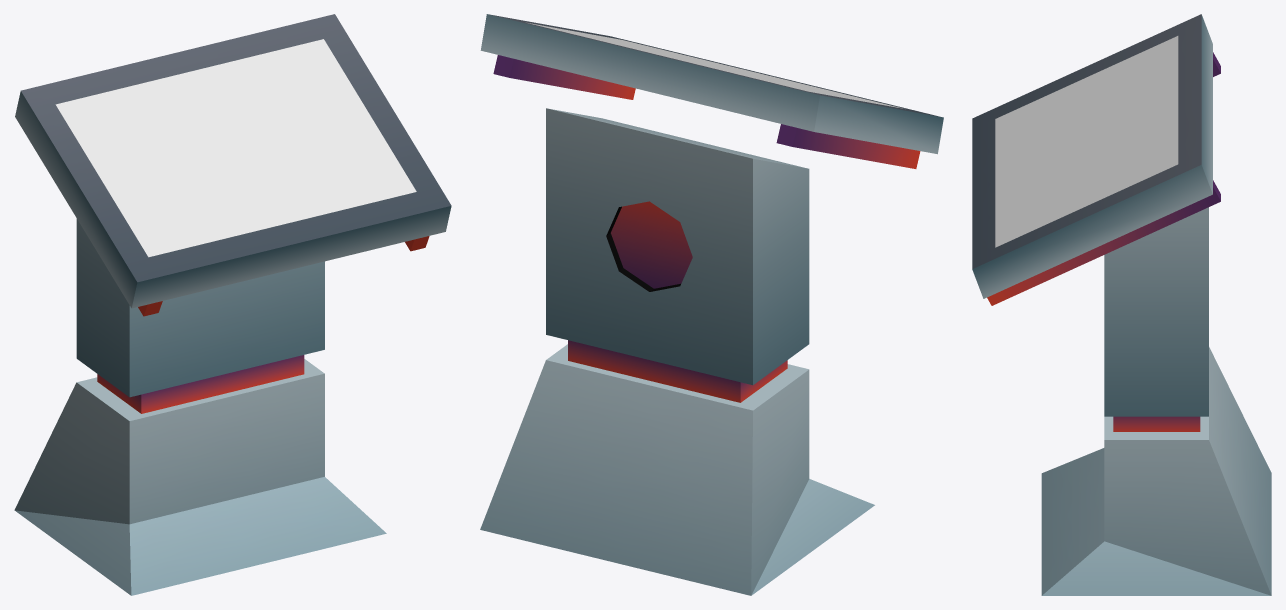
File: estrado.glb
3 views of the same model, side by side, from view 1: azimuth 30°, elevation 25°; view 2: azimuth 150°, elevation 25°; view 3: azimuth 270°, elevation 25° (orthographic). The views are drawn at different scales.
Parts seen in each view (by area): view 1: estrado; view 2: estrado; view 3: estrado.
Boxes of the visible parts, x1=… form: estrado: x1=14, y1=14, x2=451, y2=595; estrado: x1=480, y1=14, x2=943, y2=595; estrado: x1=972, y1=14, x2=1271, y2=595.
Size of what is drawn, in the model's own units: 0.9395 by 1.29 by 0.789.
2 materials, 1 textured.
